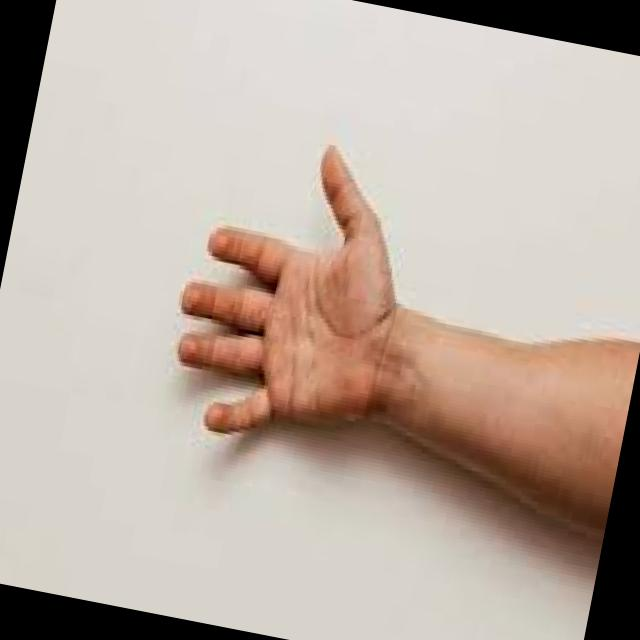Hand: (146, 116, 430, 472)
